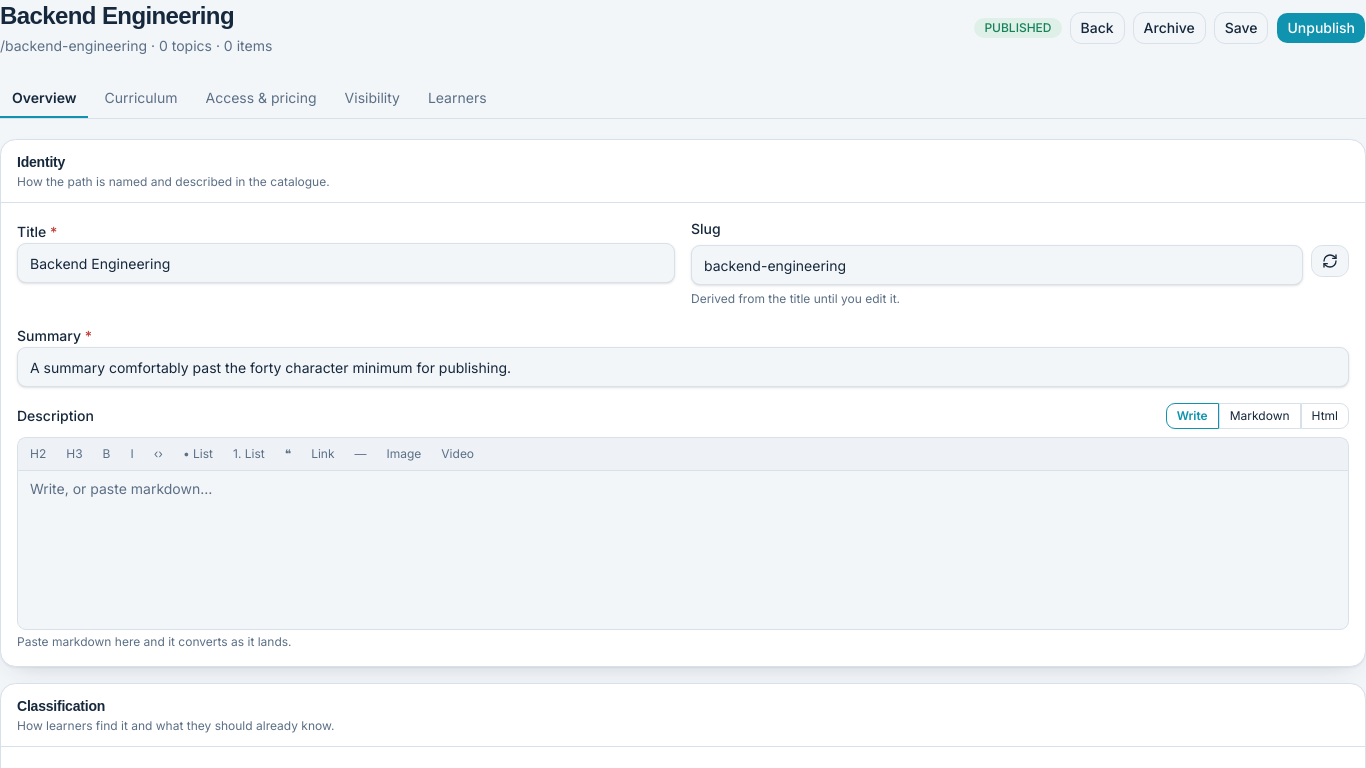
Test: PathDetailClient — enrol learners gate › still offers Enrol learners to an admin
The image size is (1366, 768).
Click the tab "Learners": (457, 99) [416,80,499,118]
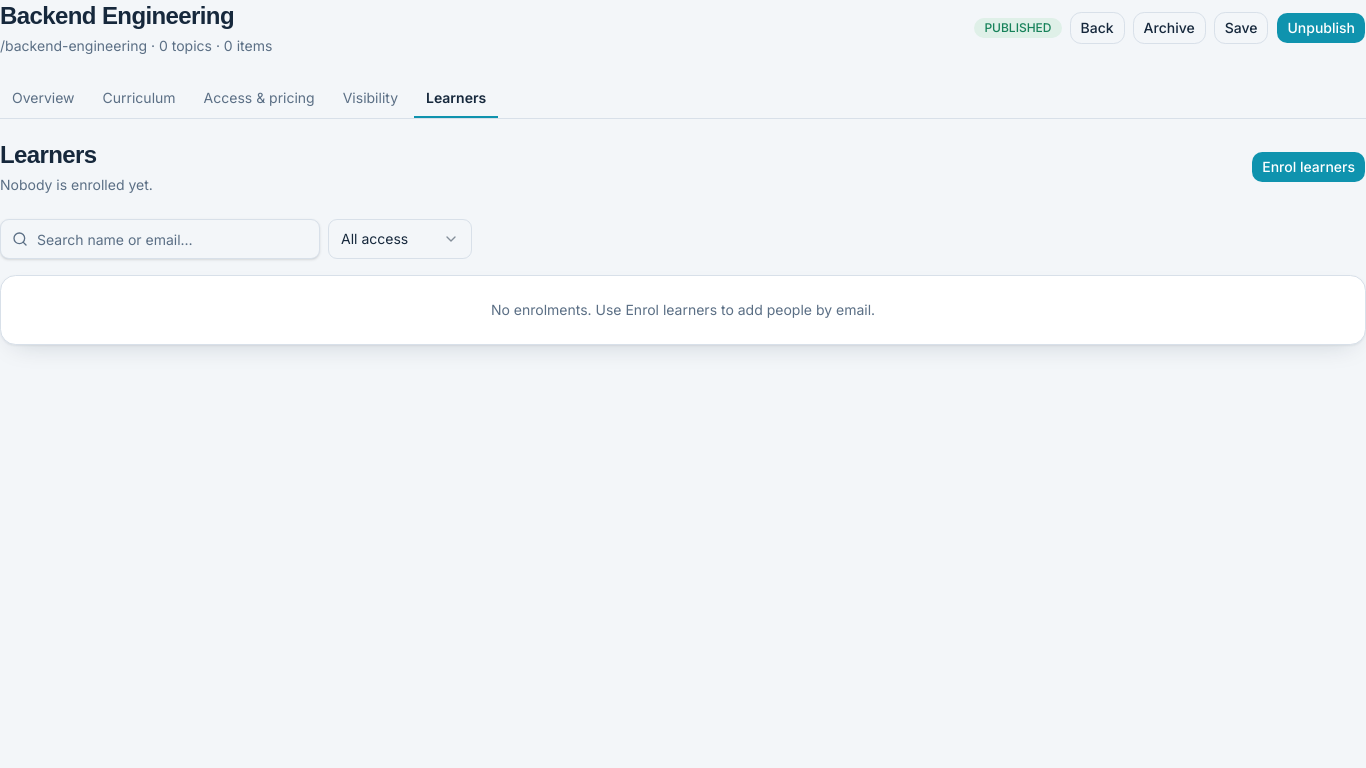
Expected: the button "Enrol learners" is shown, [1251,151,1365,183]
